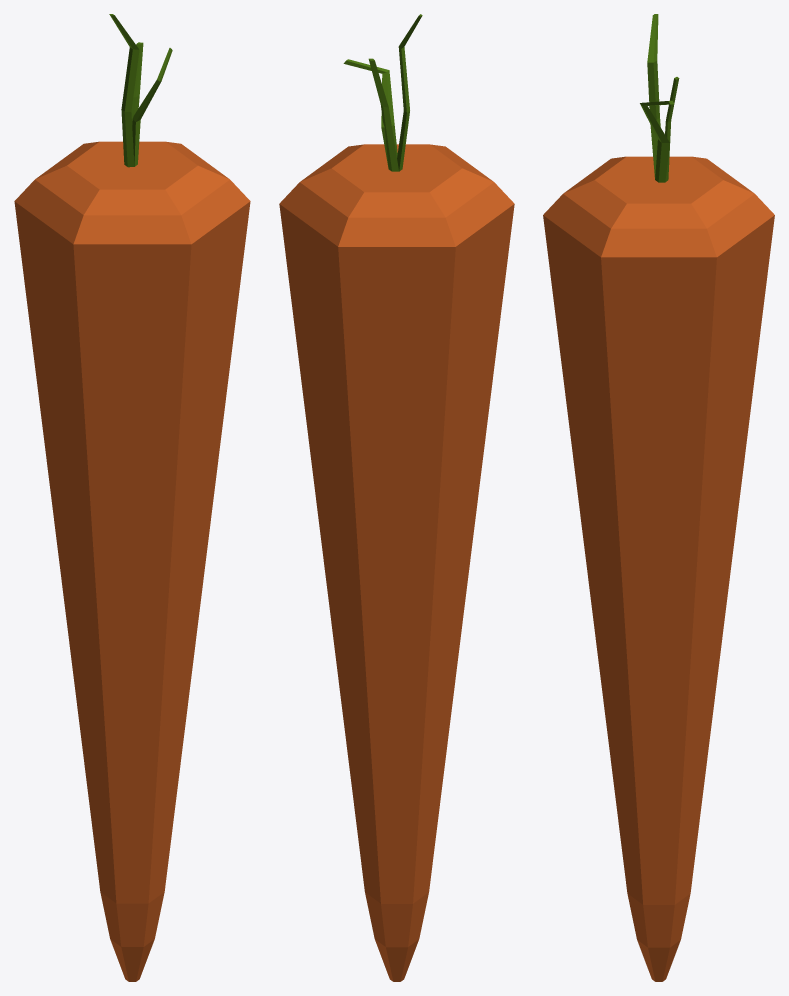
File: Carota.fbx
3 renders of one model, left to right at view 1: azimuth 30°, elevation 25°; view 2: azimuth 150°, elevation 25°; view 3: azimuth 270°, elevation 25°, orthographic.
Visible parts, largest first — view 1: Circle.016; view 2: Circle.016; view 3: Circle.016.
Part boxes in pixels (box(x1,y1,x2,y2)): Circle.016: box(14, 14, 250, 981); Circle.016: box(279, 14, 514, 981); Circle.016: box(543, 14, 774, 981).
Size of the model in its own units: 2.29 by 12 by 2.64.
